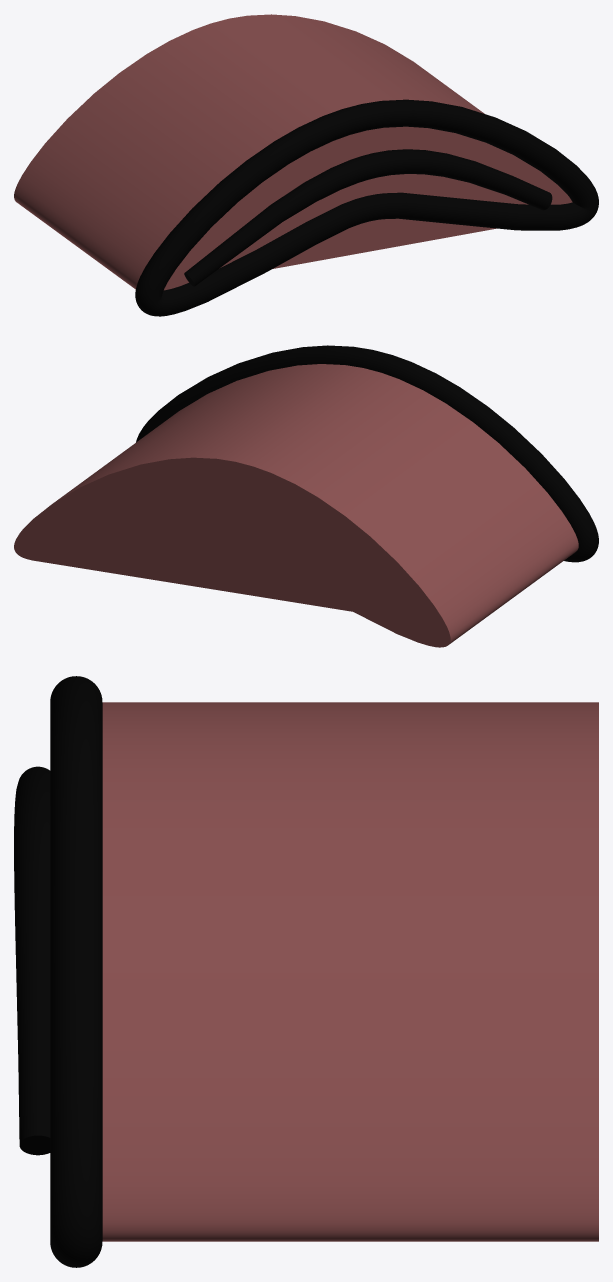
Rendered from sadMouth1.dae.
3 views of the same model, one above another, from view 1: azimuth 30°, elevation 25°; view 2: azimuth 150°, elevation 25°; view 3: azimuth 270°, elevation 25° (orthographic). The views are drawn at different scales.
Parts seen in each view (by area): view 1: Sweep_NURBS.1; view 2: Sweep_NURBS.1; view 3: Sweep_NURBS.1.
Part boxes in pixels (box(x1,y1,x2,y2)): Sweep_NURBS.1: box(14, 14, 598, 316); Sweep_NURBS.1: box(14, 345, 598, 647); Sweep_NURBS.1: box(14, 676, 598, 1267).
Size of the model in its own units: 39.4 by 14.13 by 22.39.
